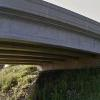Bridge: (4, 2, 94, 74)
